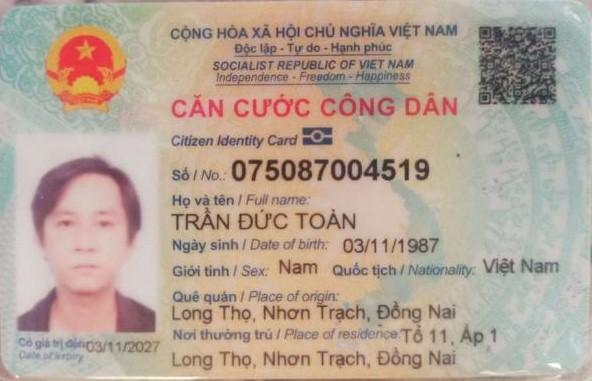ID: (227, 156, 441, 184)
birth: (338, 232, 449, 255)
name: (170, 209, 372, 232)
place: (170, 302, 473, 323)
residence: (170, 342, 456, 373), (398, 320, 500, 349)
